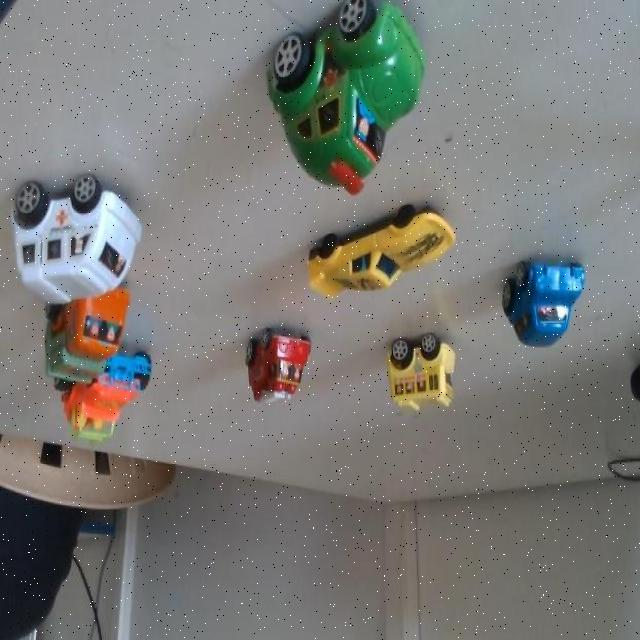car: (278, 2, 434, 188), (16, 150, 160, 326), (319, 193, 448, 312), (379, 318, 464, 417), (78, 346, 159, 448), (239, 308, 314, 418), (512, 252, 588, 351), (57, 280, 121, 392)
